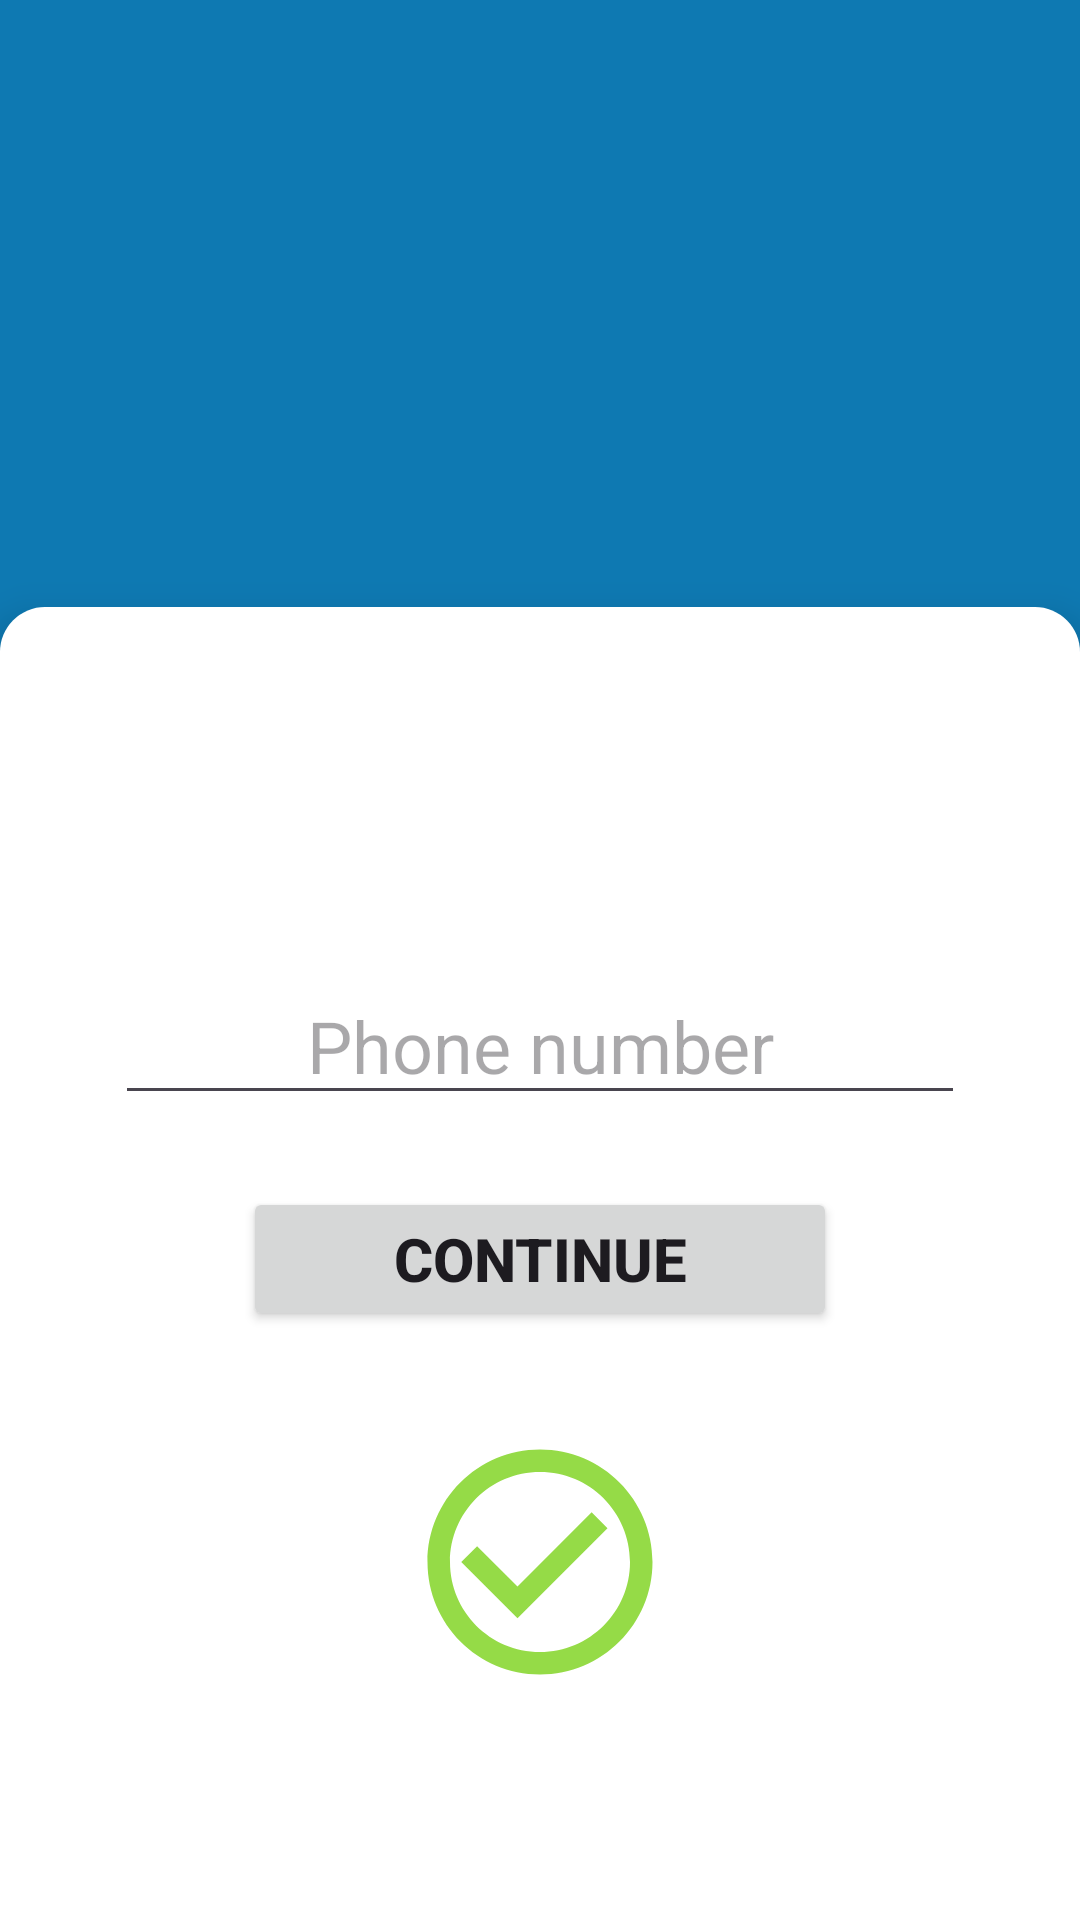

Named icons in this screenshot (1080x1920) and their centers, (x,y):
check circle: (540,1562)
